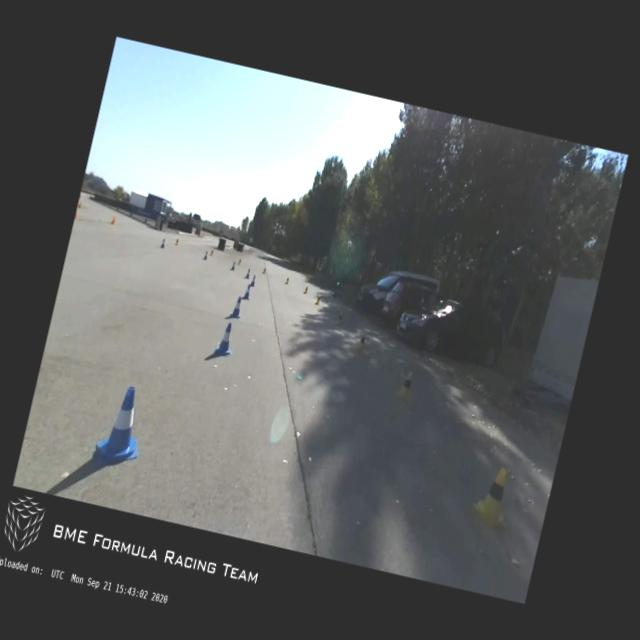blue_cone: (91, 382, 152, 472), (214, 320, 237, 358), (229, 294, 244, 318), (242, 282, 252, 300), (249, 274, 257, 286), (244, 268, 251, 278), (160, 238, 166, 248), (230, 261, 236, 270), (203, 250, 208, 260)
unknown_cone: (110, 215, 116, 225)
yellow_cone: (468, 462, 518, 530), (394, 370, 416, 402), (356, 330, 368, 352), (334, 309, 344, 326), (315, 293, 321, 304), (303, 286, 308, 294), (284, 277, 289, 285), (209, 248, 214, 256), (262, 266, 267, 274), (236, 258, 242, 264), (174, 238, 179, 245)
